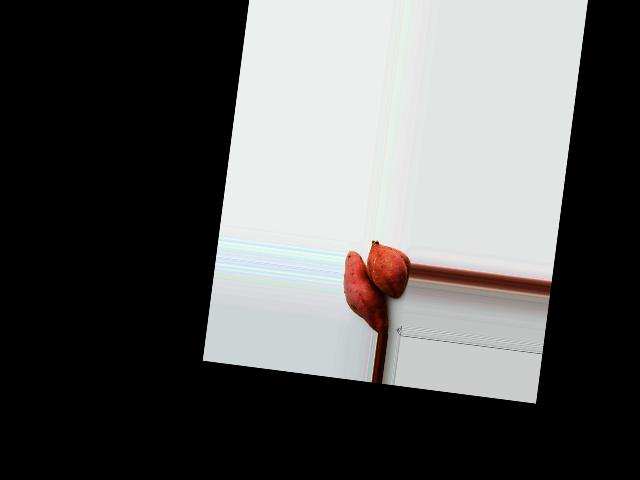sweet_potato: (367, 239, 407, 295)
